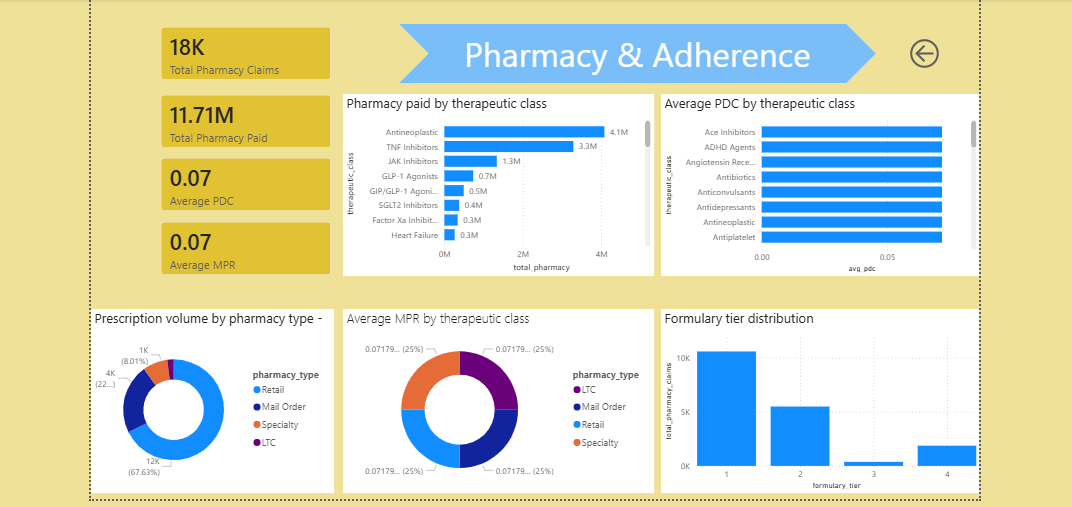

This screenshot's page, from the dashboard's own definition file:
{"tool":"powerbi","page":{"name":"Pharmacy & Adherence","canvas":[1280,720],"ordinal":3},"visuals":[{"type":"cardVisual","fields":{"Data":["pharmacy_claims.total_pharmacy_claims"]},"box":[83.5,23,279.4,110.9],"z":0},{"type":"cardVisual","fields":{"Data":["pharmacy_claims.avg_pdc"]},"box":[83.5,211.7,279.4,110.9],"z":1000},{"type":"cardVisual","fields":{"Data":["pharmacy_claims.total_pharmacy"]},"box":[83.5,121,279.4,110.9],"z":2000},{"type":"cardVisual","fields":{"Data":["pharmacy_claims.avg_mpr"]},"box":[83.5,303.8,279.4,110.9],"z":3000},{"type":"barChart","title":"Pharmacy paid by therapeutic class","fields":{"Y":["pharmacy_claims.total_pharmacy"],"Category":["pharmacy_claims.therapeutic_class"]},"box":[362.9,136.8,447.8,262.1],"z":4000},{"type":"barChart","title":"Average PDC by therapeutic class","fields":{"Y":["pharmacy_claims.avg_pdc"],"Category":["pharmacy_claims.therapeutic_class"]},"box":[820.8,136.8,459.4,262.1],"z":5000},{"type":"donutChart","title":"Average MPR by therapeutic class","fields":{"Category":["pharmacy_claims.pharmacy_type"],"Y":["pharmacy_claims.avg_mpr"]},"box":[362.9,446.4,447.8,265],"z":6000},{"type":"columnChart","title":"Formulary tier distribution","fields":{"Category":["pharmacy_claims.formulary_tier"],"Y":["pharmacy_claims.total_pharmacy_claims"]},"box":[820.8,446.4,459.4,265],"z":7000},{"type":"donutChart","title":"Prescription volume by pharmacy type -","fields":{"Category":["pharmacy_claims.pharmacy_type"],"Y":["pharmacy_claims.total_pharmacy_claims"]},"box":[0,446.4,349.9,265],"z":8000},{"type":"shape","box":[443.5,36,686.9,85],"z":9000},{"type":"actionButton","box":[1173.6,51.8,93.6,53.3],"z":10000}]}

Visuals, with their boxes on the page's 1280x720 design canvas (x1, y1, x2, y2). These are canvas units, not pixel positions in the 1072x507 screenshot, which may show the page scaled, cropped or inside an application window:
cardVisual - pharmacy_claims.total_pharmacy_claims: rect(84, 23, 363, 134)
cardVisual - pharmacy_claims.avg_pdc: rect(84, 212, 363, 323)
cardVisual - pharmacy_claims.total_pharmacy: rect(84, 121, 363, 232)
cardVisual - pharmacy_claims.avg_mpr: rect(84, 304, 363, 415)
"Pharmacy paid by therapeutic class" barChart: rect(363, 137, 811, 399)
"Average PDC by therapeutic class" barChart: rect(821, 137, 1280, 399)
"Average MPR by therapeutic class" donutChart: rect(363, 446, 811, 711)
"Formulary tier distribution" columnChart: rect(821, 446, 1280, 711)
"Prescription volume by pharmacy type -" donutChart: rect(0, 446, 350, 711)
shape: rect(444, 36, 1130, 121)
actionButton: rect(1174, 52, 1267, 105)
